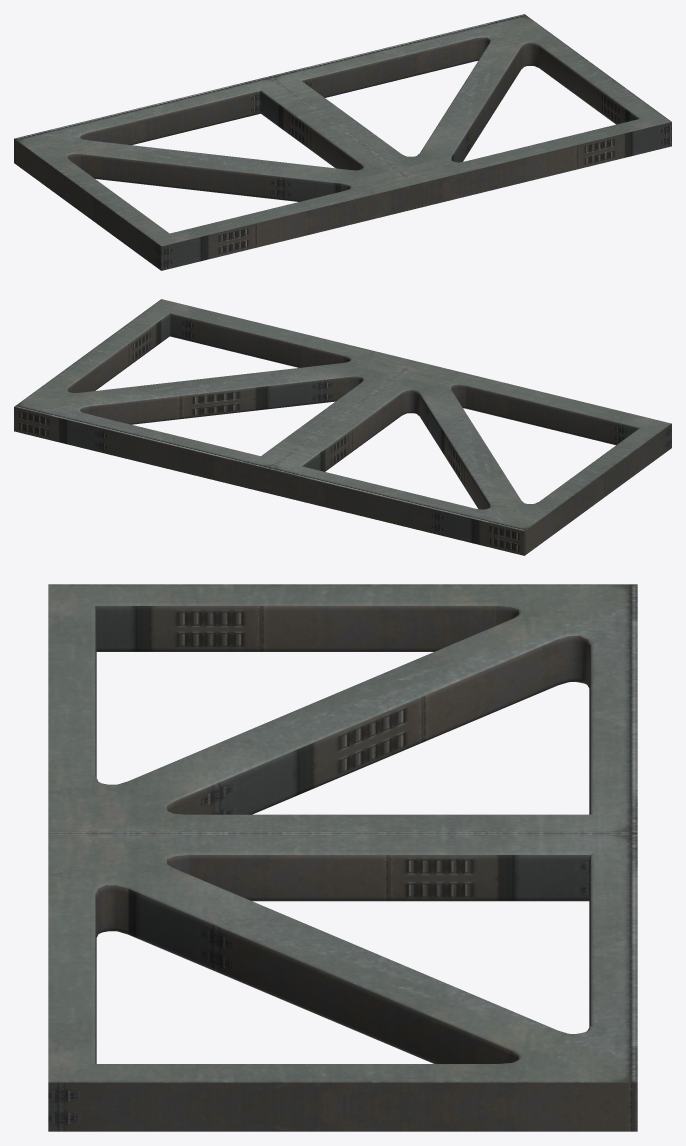
The model's file is pyl_wall_4x8.FBX.
3 views of the same model, one above another, from view 1: azimuth 30°, elevation 25°; view 2: azimuth 150°, elevation 25°; view 3: azimuth 270°, elevation 25° (orthographic). The views are drawn at different scales.
Parts seen in each view (by area): view 1: pyl_wall_4x8; view 2: pyl_wall_4x8; view 3: pyl_wall_4x8.
Boxes of the visible parts, x1,y1,x2,y2 form: pyl_wall_4x8: (14, 14, 671, 270); pyl_wall_4x8: (14, 299, 671, 555); pyl_wall_4x8: (48, 584, 637, 1131).
Size of the model in its own units: 8 by 4 by 0.3662.
